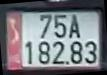.: (66, 61, 69, 65)
1: (25, 42, 32, 64)
2: (53, 42, 64, 64)
3: (85, 41, 97, 63)
5: (54, 15, 66, 38)
7: (40, 14, 51, 39)
8: (38, 41, 50, 63), (70, 41, 82, 63)
A: (69, 15, 80, 39)
